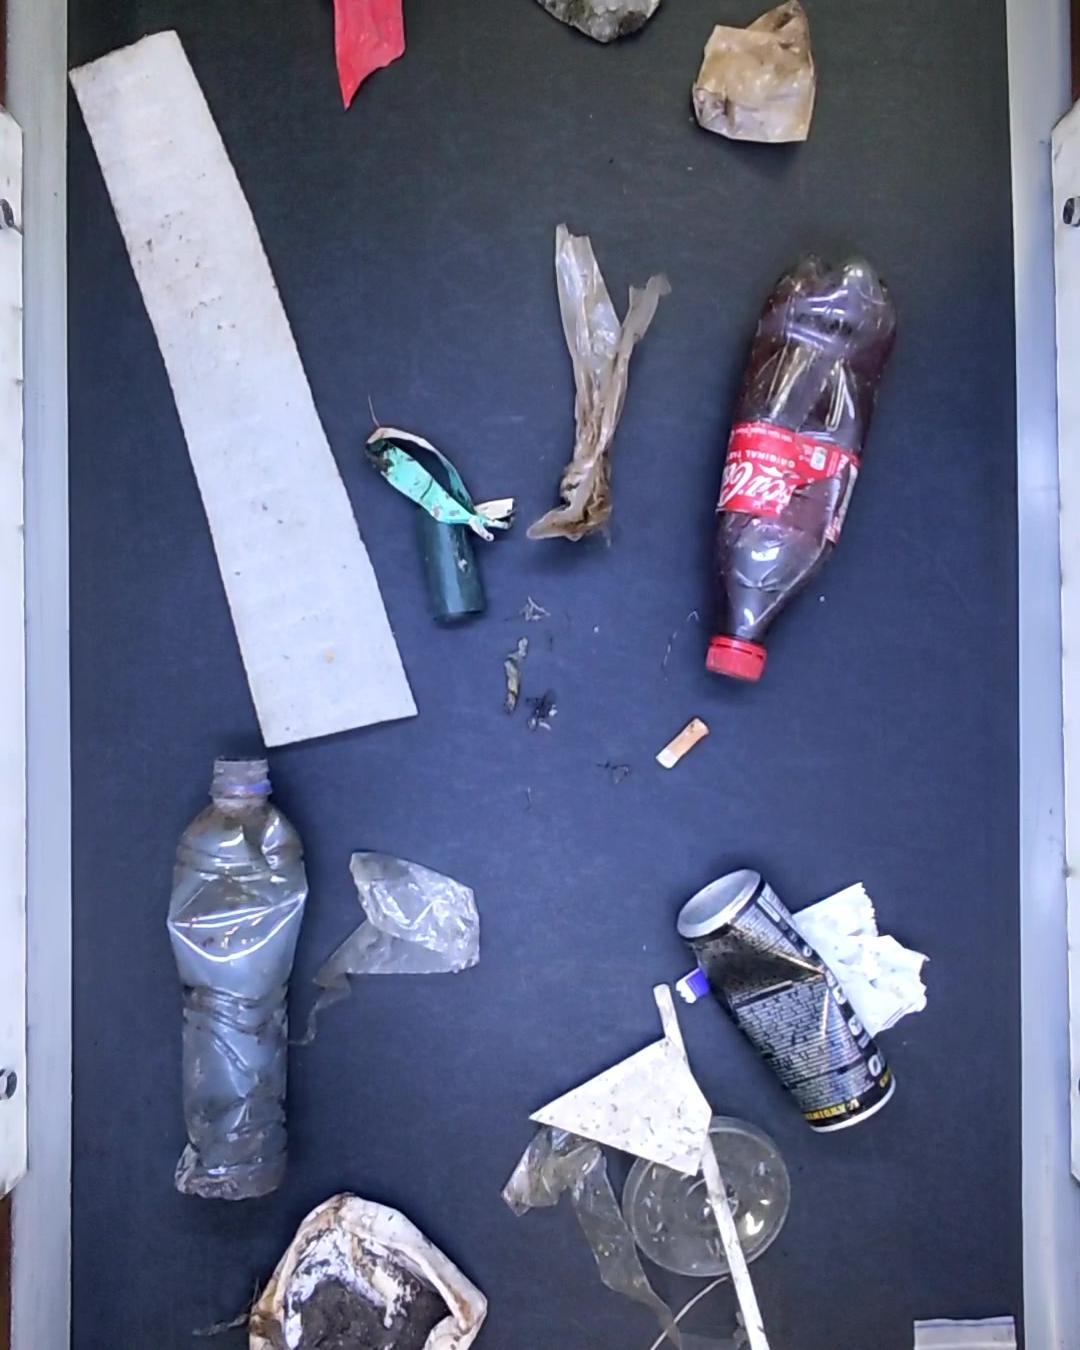Drankblikjes: (670, 860, 894, 1134)
Drankflessen - 1-2 liter: (700, 248, 889, 684)
Plastic folies of stukken daarvan 2.5- 50 cm: (497, 1110, 712, 1350), (525, 227, 663, 546), (301, 834, 483, 1047), (790, 885, 928, 1041), (685, 0, 820, 145)
